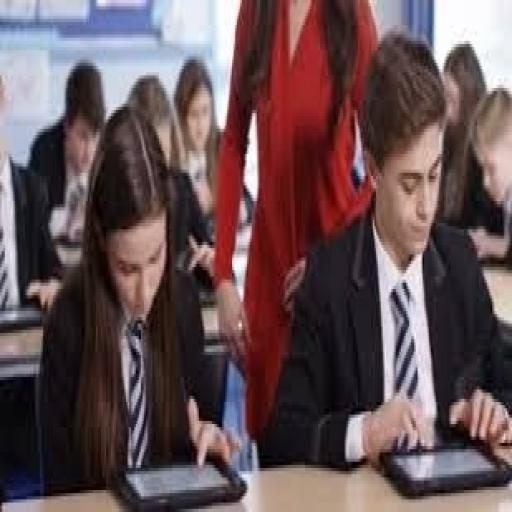sitting: (3, 13, 509, 490), (262, 25, 510, 468), (36, 101, 242, 493)
